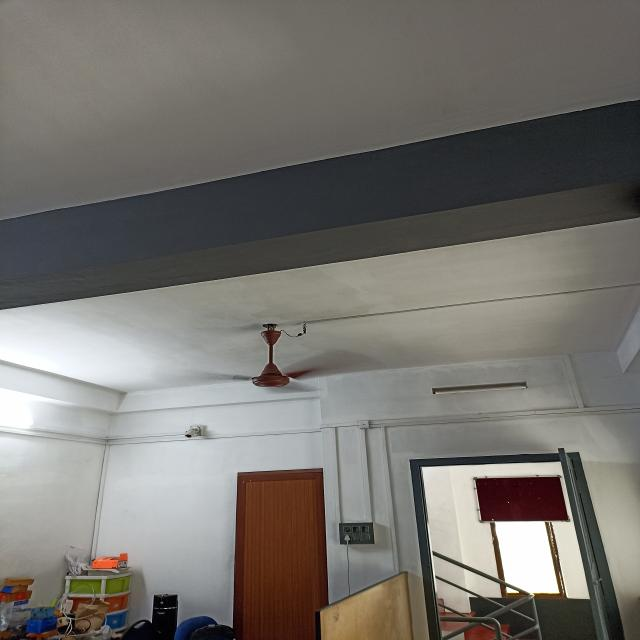fan: (207, 322, 319, 390)
light: (251, 322, 290, 387)
